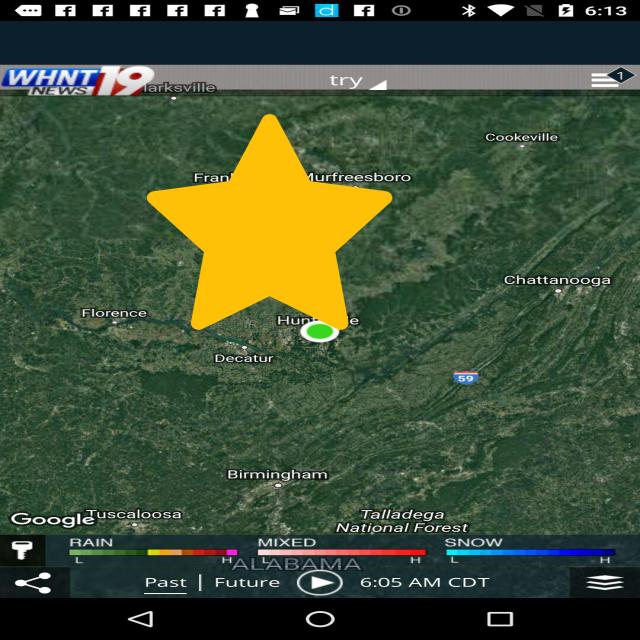forced continuity: (147, 114, 392, 330)
